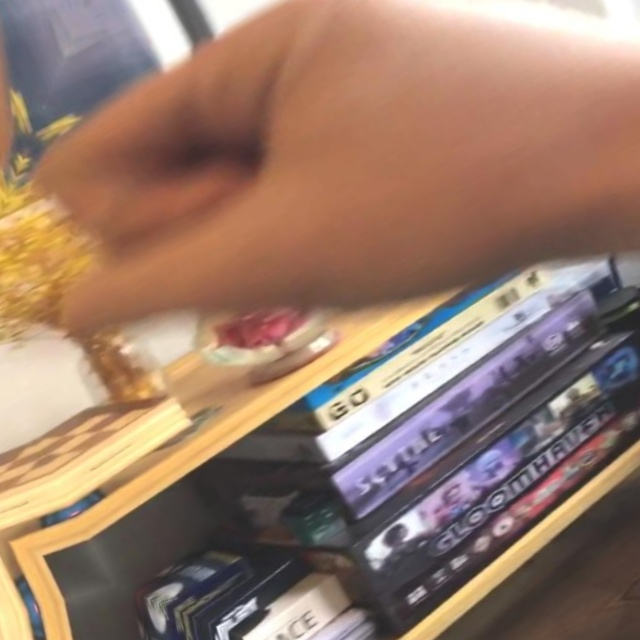Rock: (0, 0, 166, 381)
